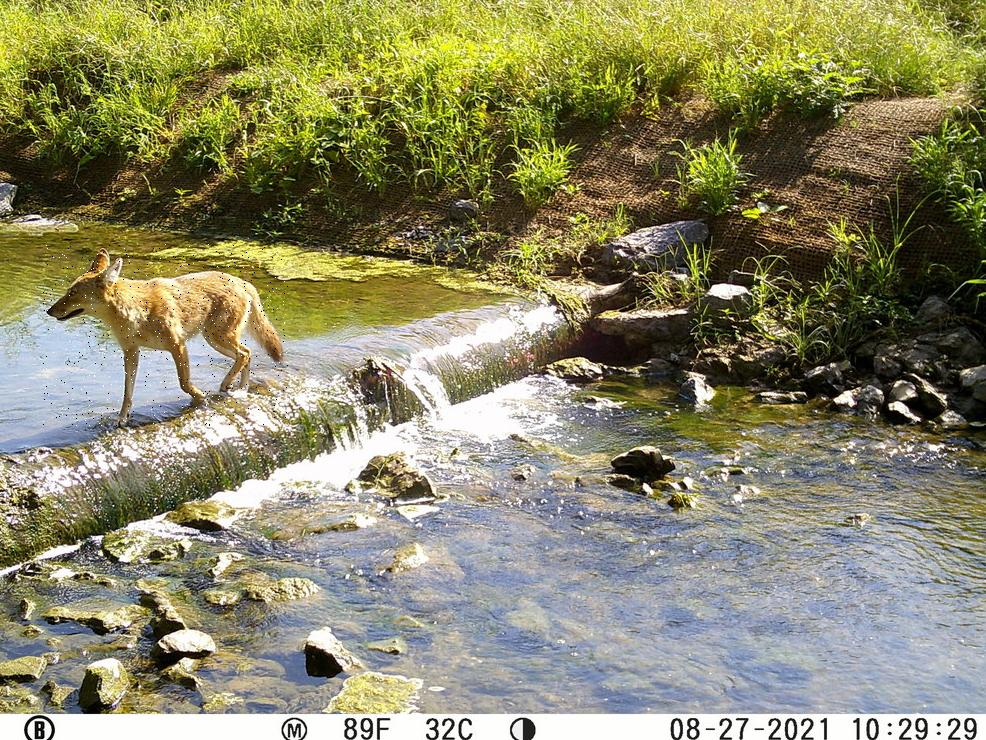Coyote: (43, 244, 289, 426)
